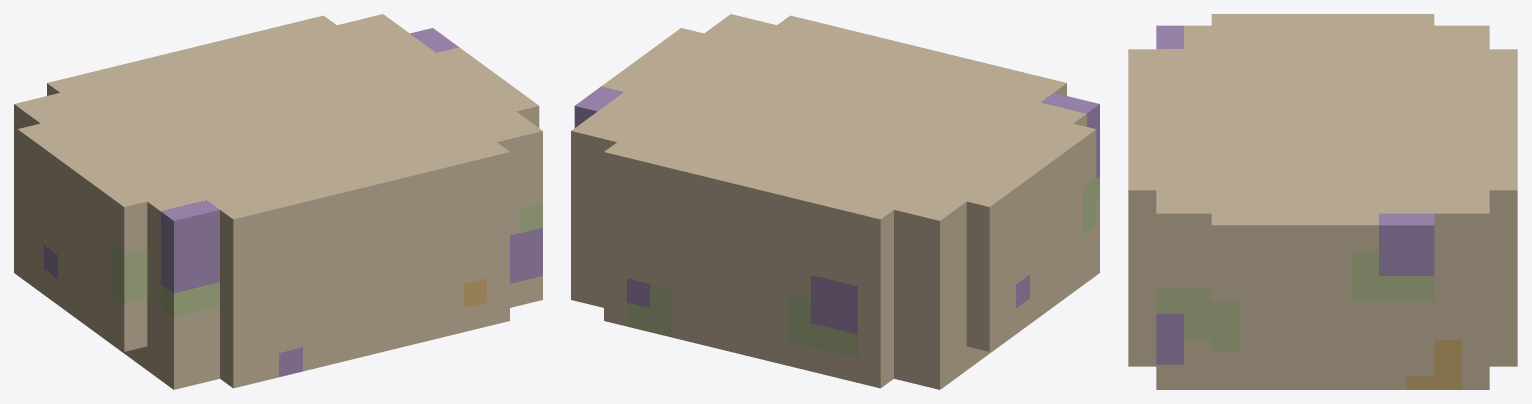
Rendered from Chest_4.fbx.
The picture shows the model from 3 angles, left to right: view 1: azimuth 30°, elevation 25°; view 2: azimuth 150°, elevation 25°; view 3: azimuth 270°, elevation 25°; orthographic projection. The views are drawn at different scales.
Parts seen in each view (by area): view 1: Chest_4; view 2: Chest_4; view 3: Chest_4.
Boxes of the visible parts, x1,y1,x2,y2 form: Chest_4: (14, 14, 542, 389); Chest_4: (571, 14, 1099, 389); Chest_4: (1128, 14, 1517, 389).
Bounding box in the file's own units: 18 × 7 × 14.
Materials: 1 (1 with a texture image).
